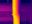Hotspot: (12, 0, 19, 23)
